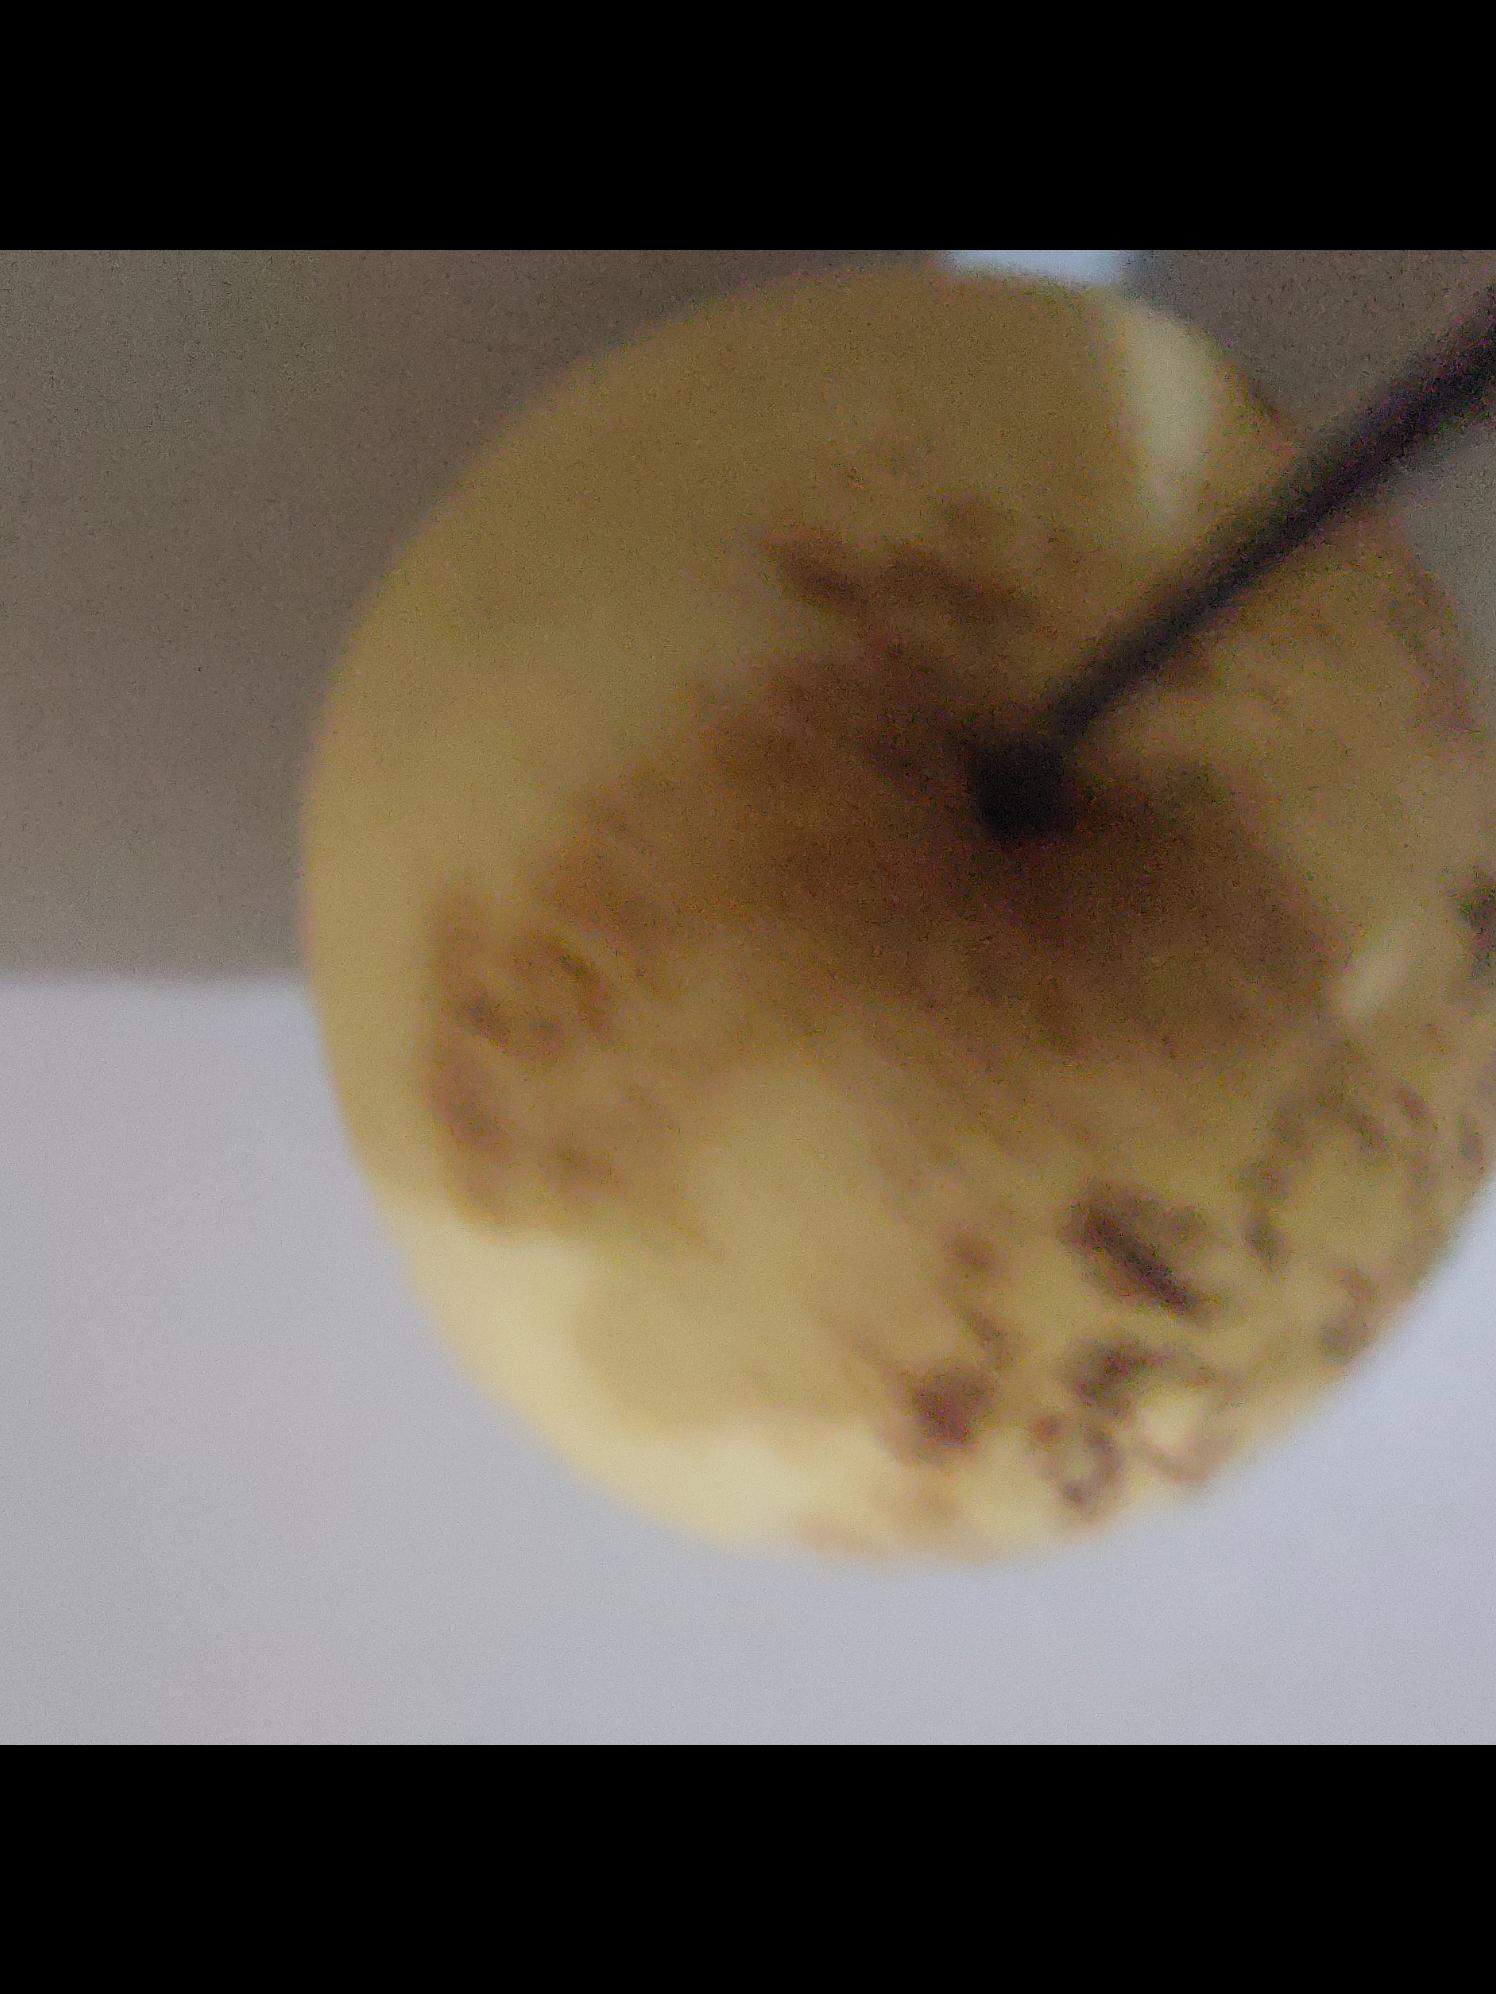Bad Pear: (305, 267, 1496, 1560)
